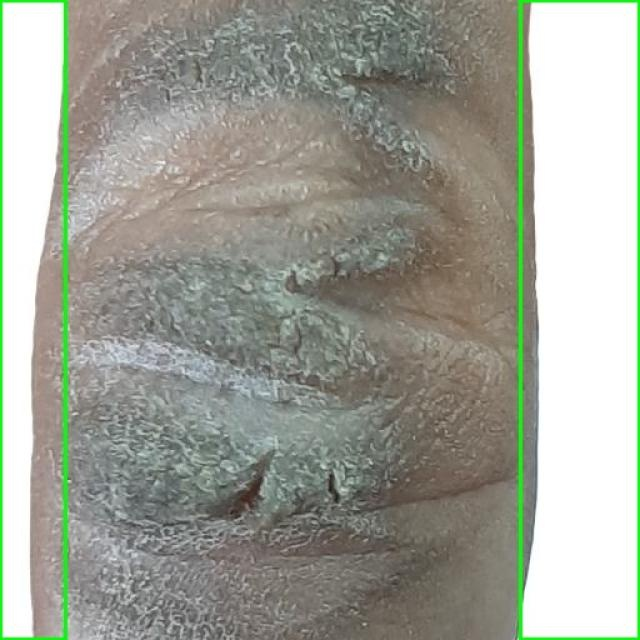Contact Dermatitis: (520, 0, 639, 639), (0, 0, 65, 639)
